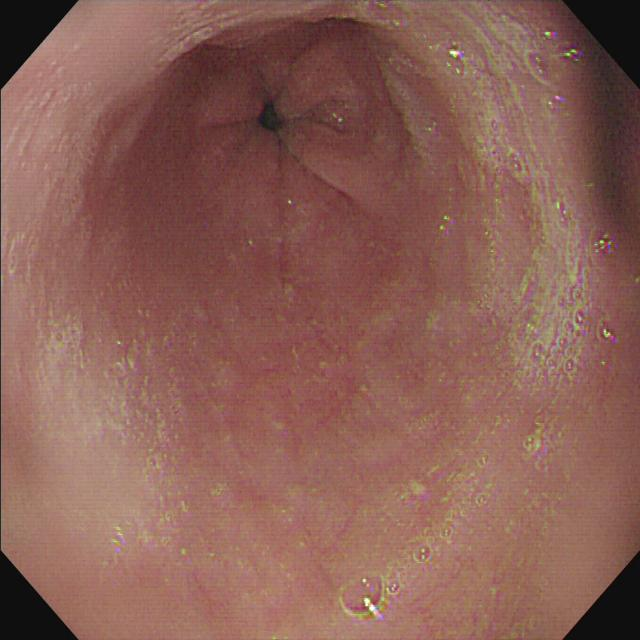E: (260, 102, 285, 134)
I: (197, 44, 399, 252)
T: (450, 41, 584, 395), (341, 481, 487, 621)
